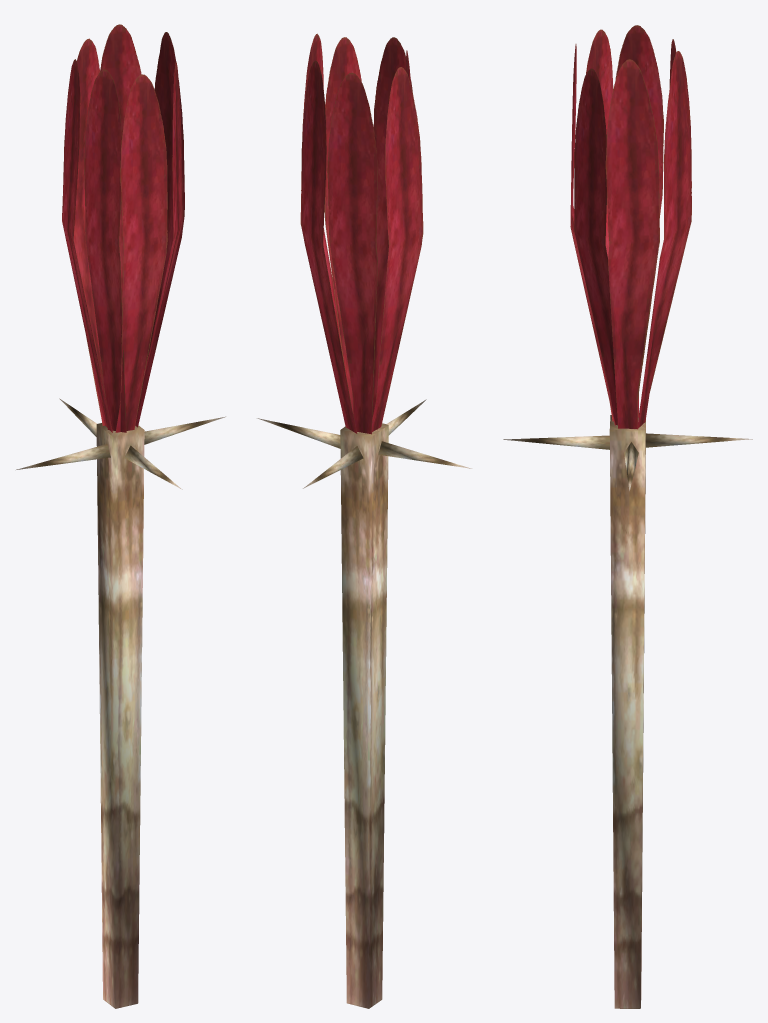
The model's file is flow_tatt_funnel_sm_l2.fbx.
3 views of the same model, side by side, from view 1: azimuth 30°, elevation 25°; view 2: azimuth 150°, elevation 25°; view 3: azimuth 270°, elevation 25° (orthographic).
Parts seen in each view (by area): view 1: mesh_node; view 2: mesh_node; view 3: mesh_node.
Part boxes in pixels (box(x1,y1,x2,y2)): mesh_node: box(16, 24, 225, 1008); mesh_node: box(257, 33, 471, 1008); mesh_node: box(503, 25, 752, 1008).
Bounding box in the file's own units: 0.223 × 0.9587 × 0.2244.
